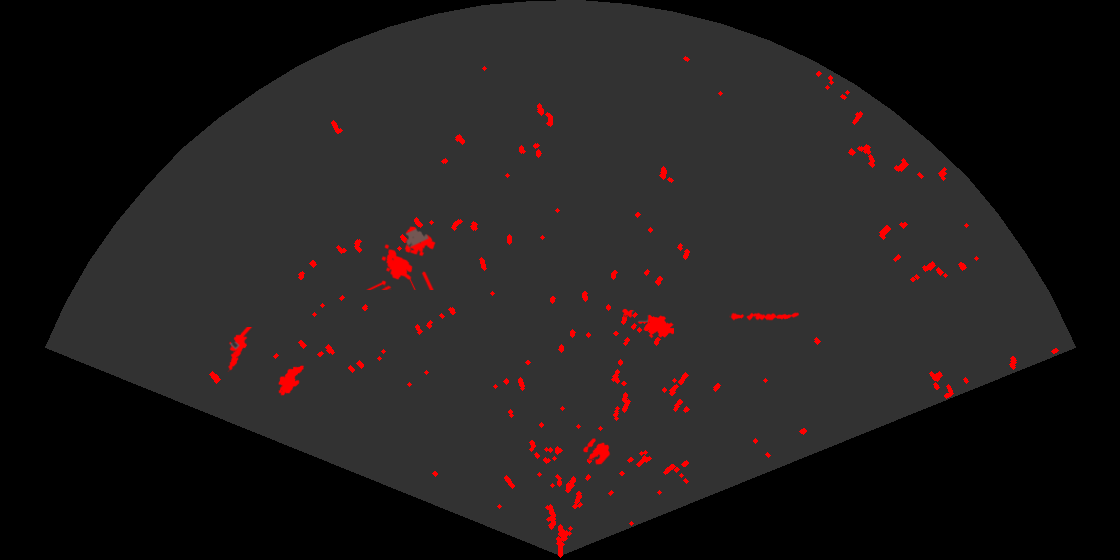AUV: (277, 364, 306, 397)
ball: (582, 437, 612, 467)
cage: (365, 224, 437, 290)
chain: (729, 311, 799, 322)
frogman: (620, 307, 674, 340), (226, 327, 254, 372)
